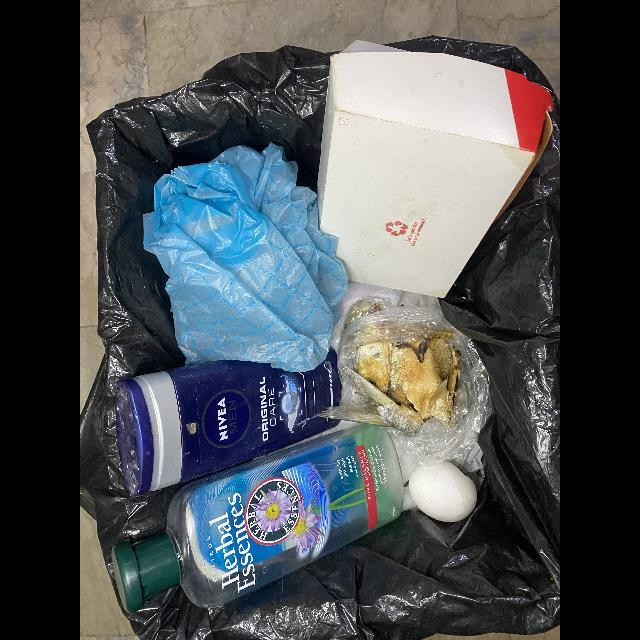biowaste: (319, 299, 464, 437), (408, 461, 477, 523)
paper: (318, 41, 555, 299)
plastic: (112, 425, 404, 613), (142, 146, 350, 374), (115, 348, 342, 498), (324, 286, 489, 468)
